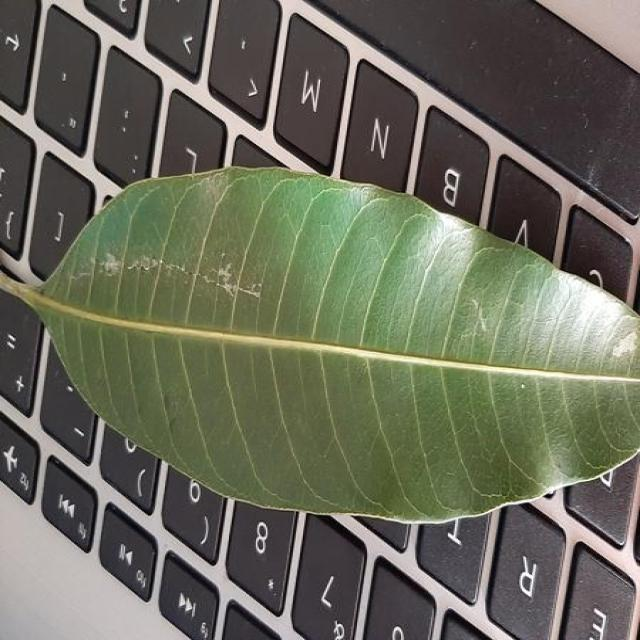mango: (3, 168, 638, 522)
sooty mould: (75, 191, 637, 501)
